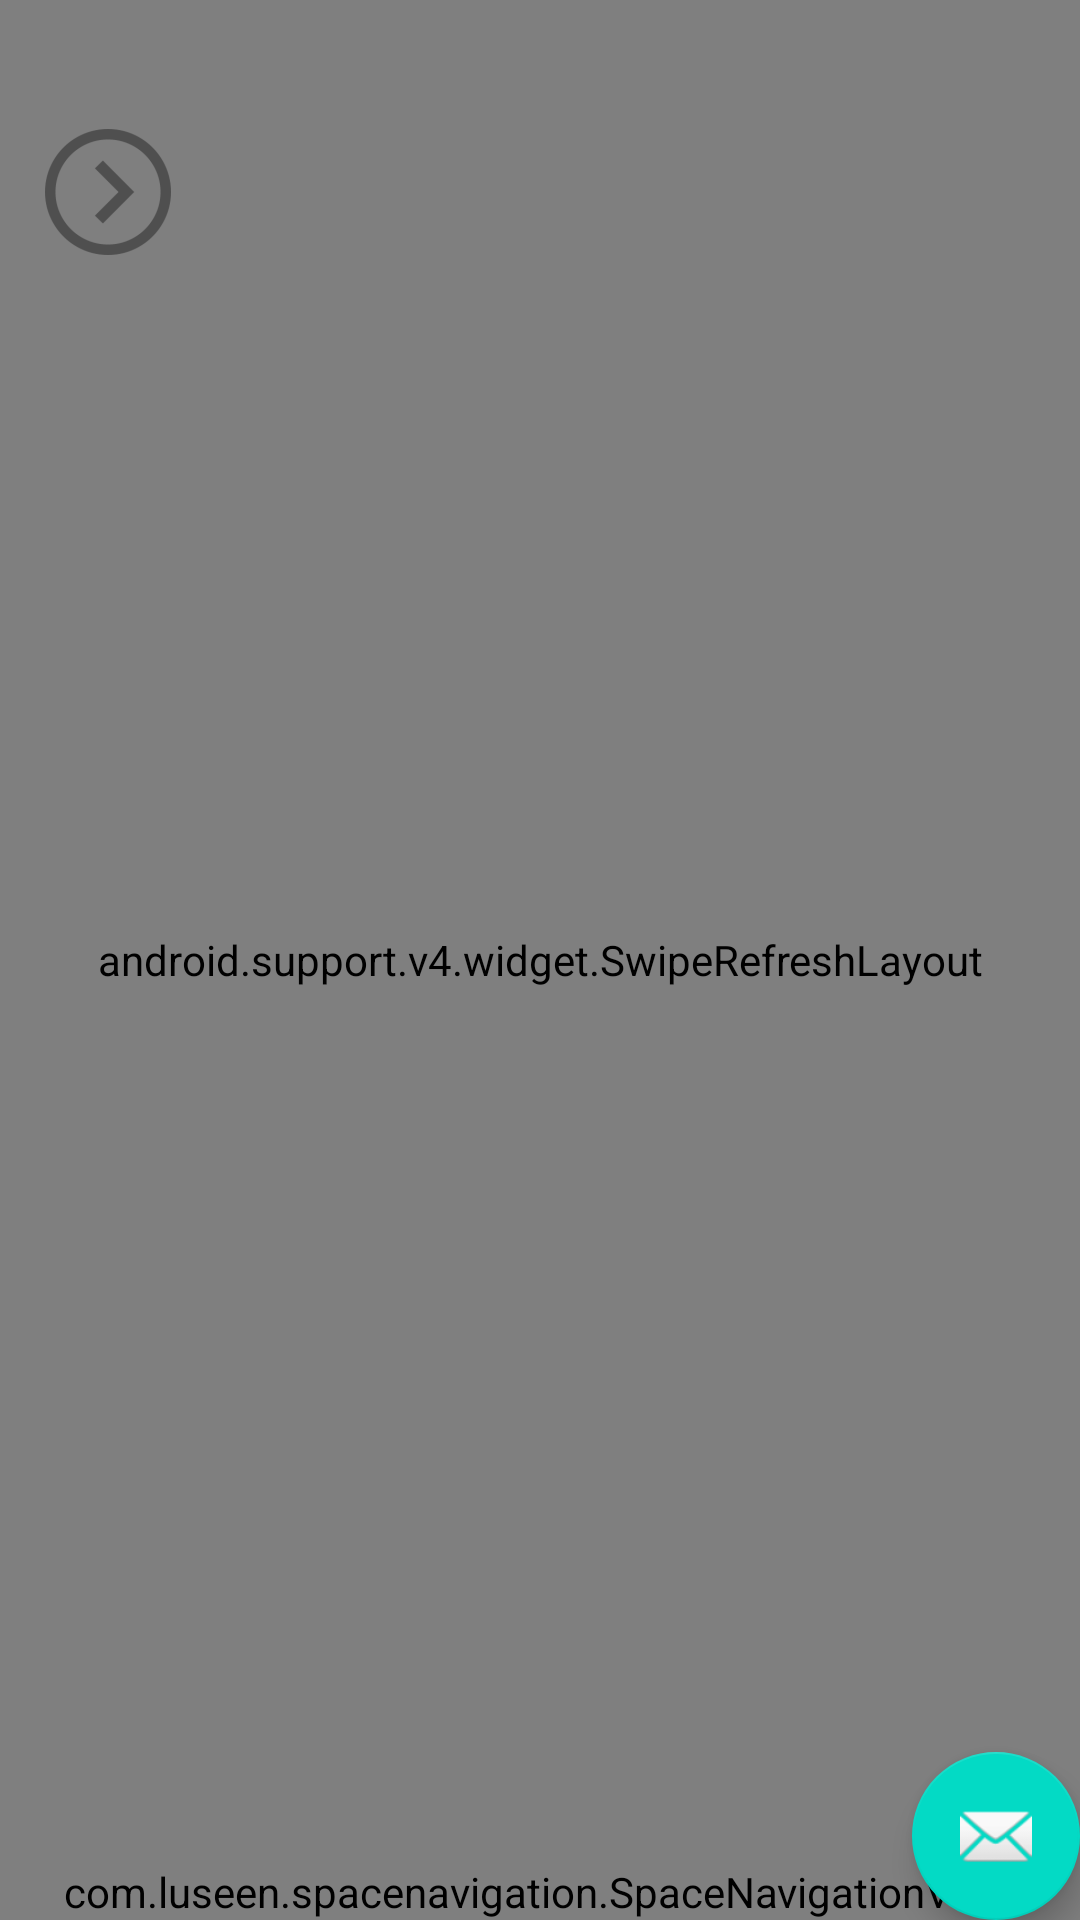

Locate icon controls on the screen. Image size 1080px×1920px, boxes as [x1,y1,x2,y2].
email: [912,1752,1080,1920]
open nav: [45,129,171,255]
